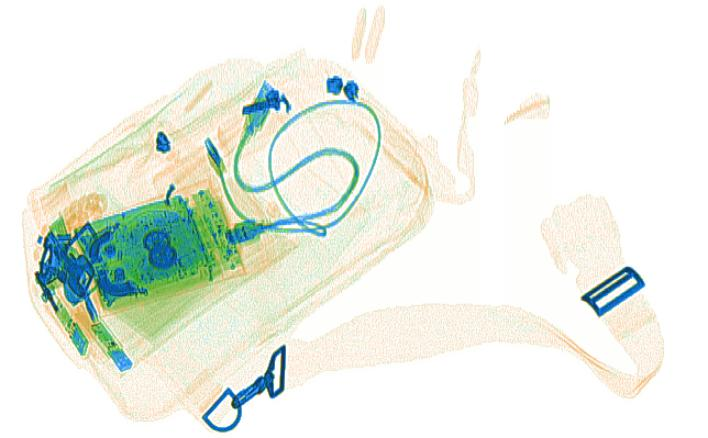USBFlashDisk: (91, 321, 132, 369), (53, 299, 88, 354)
